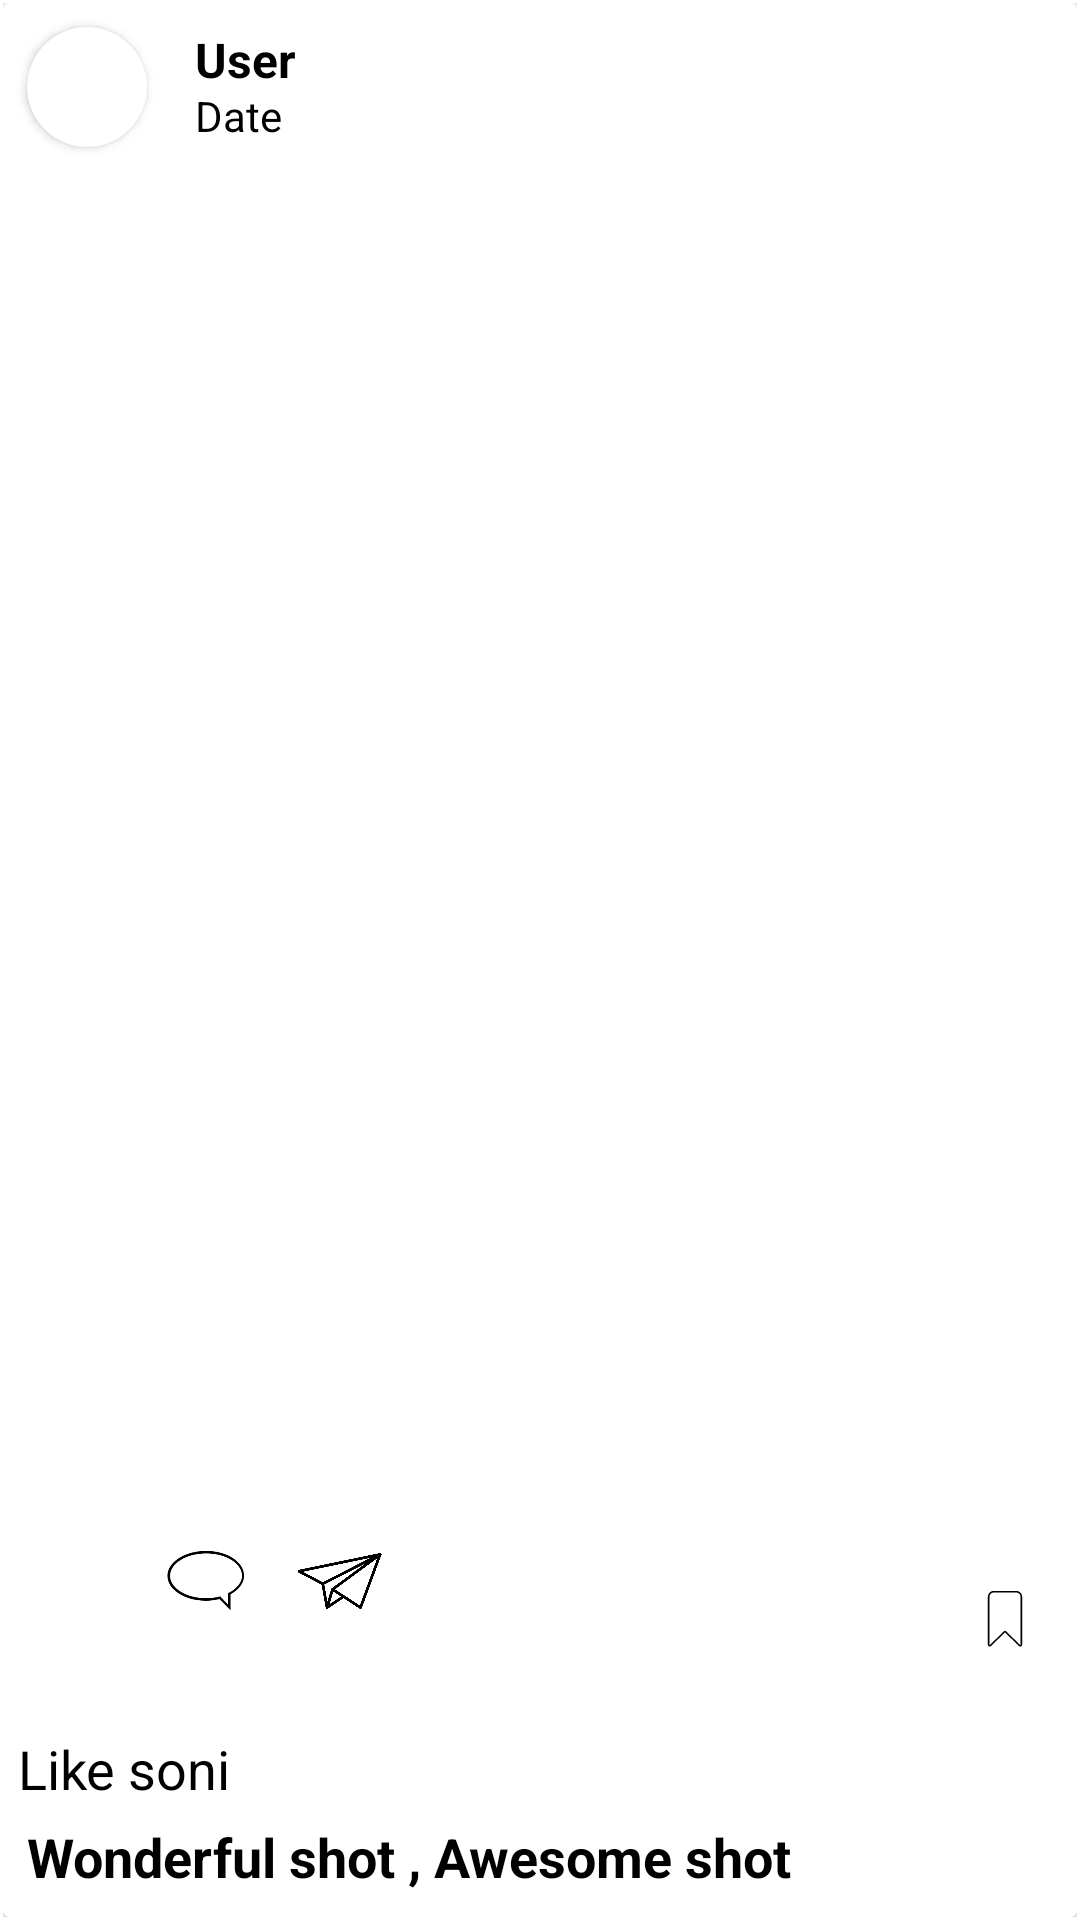

Icon bounding boxes for this 1080 × 1920 phone screenshot, format (x1,y1,x2,y2):
coment: (167,1551,244,1610)
